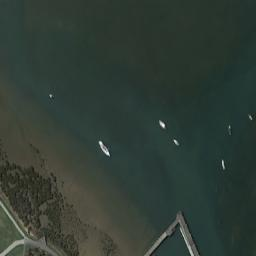boat: (98, 138, 112, 158), (158, 118, 166, 129), (246, 111, 253, 121), (228, 121, 232, 135), (172, 137, 179, 145), (221, 157, 225, 169), (48, 93, 54, 98)
